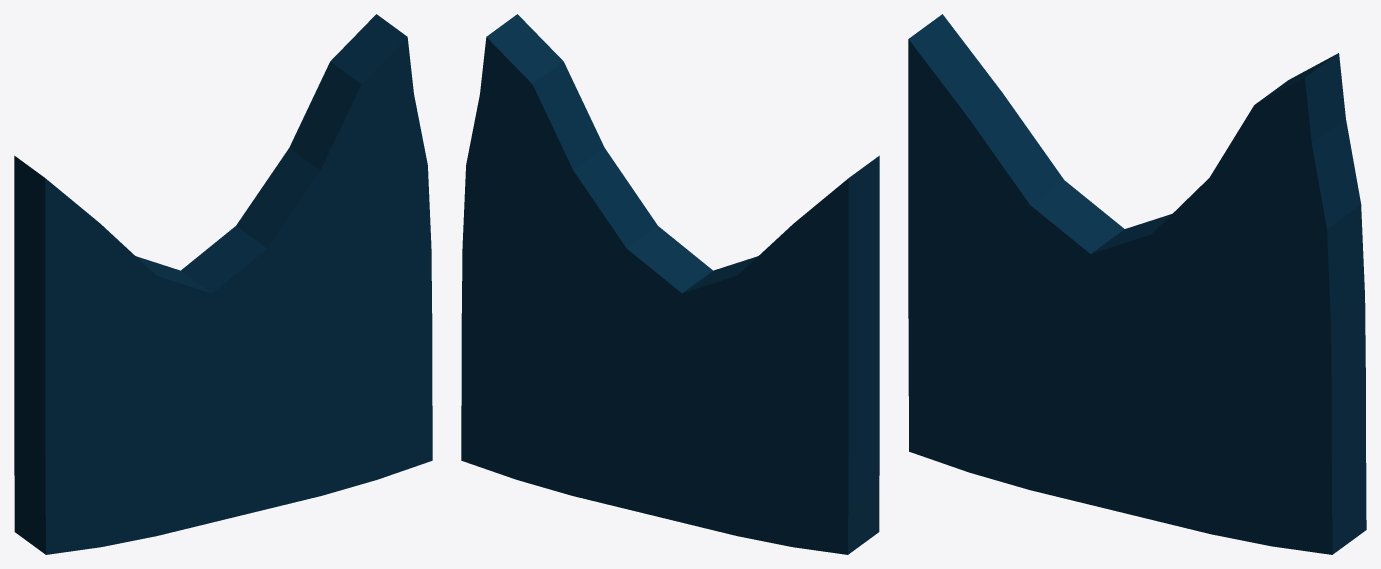
File: IsometricTile_Dark_Wall_1.fbx
The picture shows the model from 3 angles, left to right: view 1: azimuth 30°, elevation 25°; view 2: azimuth 150°, elevation 25°; view 3: azimuth 330°, elevation 25°; orthographic projection. The views are drawn at different scales.
Visible parts, largest first — view 1: BrokenWall_Front.002; view 2: BrokenWall_Front.002; view 3: BrokenWall_Front.002.
Part boxes in pixels (left/top/right/bottom): BrokenWall_Front.002: left=14, top=14, right=432, bottom=554; BrokenWall_Front.002: left=461, top=14, right=879, bottom=554; BrokenWall_Front.002: left=908, top=14, right=1366, bottom=554.
Bounding box in the file's own units: 0.1398 × 1 × 1.08.
